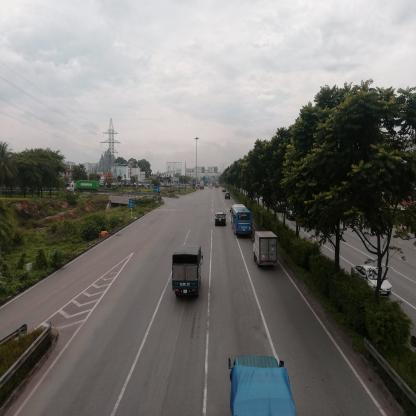bus: (232, 204, 254, 237)
car: (350, 268, 394, 291), (216, 213, 227, 228)
truck: (230, 356, 296, 416), (173, 247, 202, 301), (253, 231, 280, 267)
